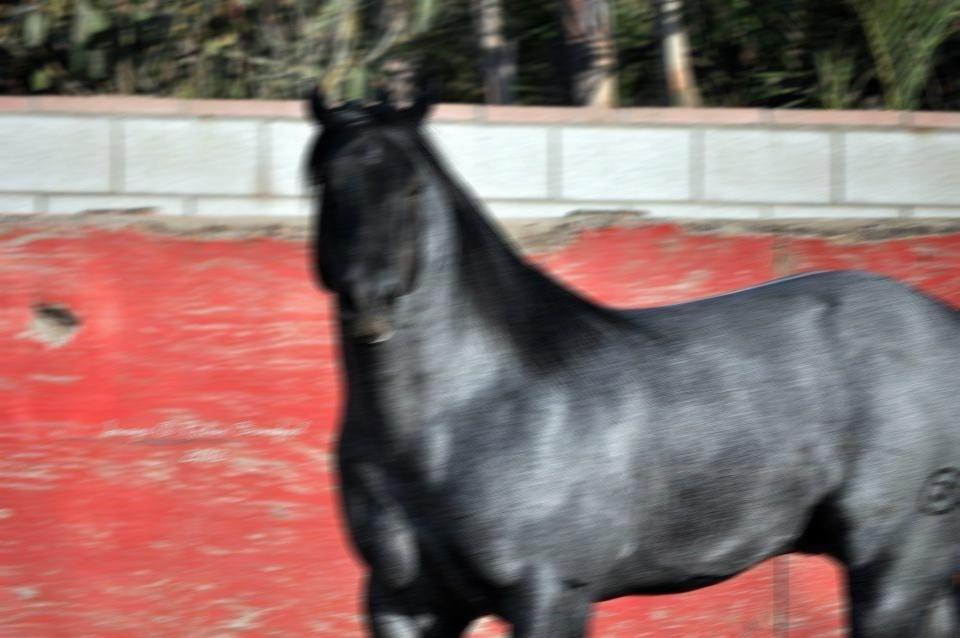horse: (296, 71, 960, 636)
